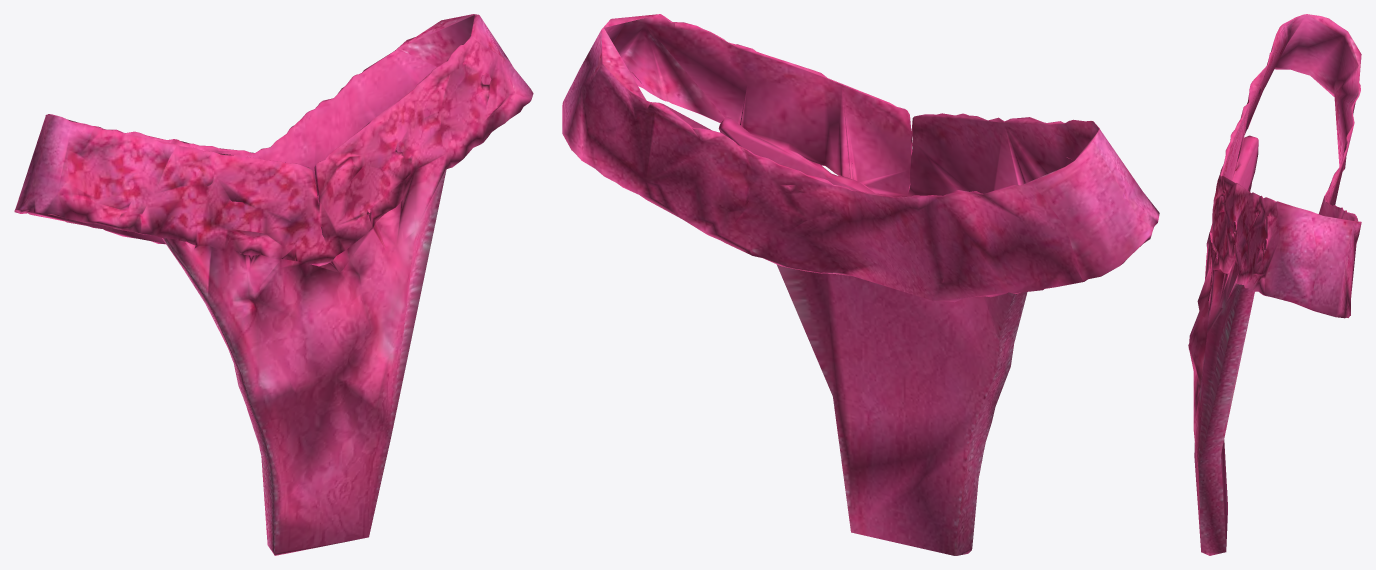
The model's file is panties.glb.
The picture shows the model from 3 angles, left to right: view 1: azimuth 30°, elevation 25°; view 2: azimuth 150°, elevation 25°; view 3: azimuth 270°, elevation 25°; orthographic projection. The views are drawn at different scales.
Visible parts, largest first — view 1: tripo_node_58a6afaf; view 2: tripo_node_58a6afaf; view 3: tripo_node_58a6afaf.
Boxes of the visible parts, x1=… form: tripo_node_58a6afaf: x1=14, y1=14, x2=533, y2=555; tripo_node_58a6afaf: x1=562, y1=14, x2=1159, y2=555; tripo_node_58a6afaf: x1=1188, y1=14, x2=1361, y2=555.
Bounding box in the file's own units: 0.977 × 0.8205 × 0.3049.
Materials: 1 (1 with a texture image).
